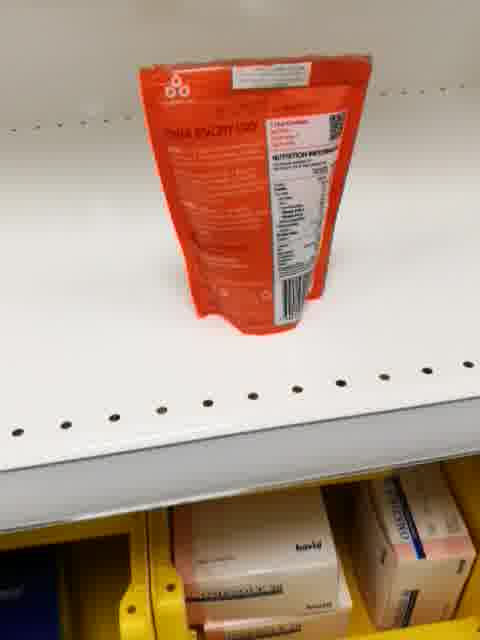whitechia: (133, 49, 376, 342)
